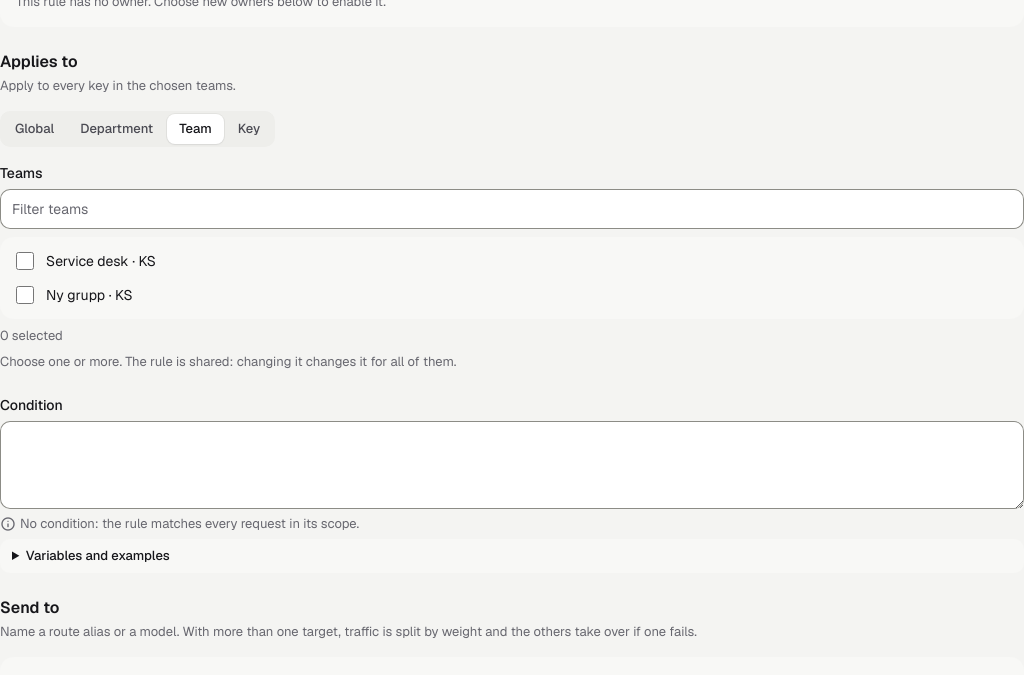
RuleFormDrawer › cannot enable a rule that has no owner until a new owner is chosen
(page scrolled)
Submit the form
Click the checkbox labelled "Ny grupp · KS": (25, 295) [16, 286, 34, 304]
(page scrolled)
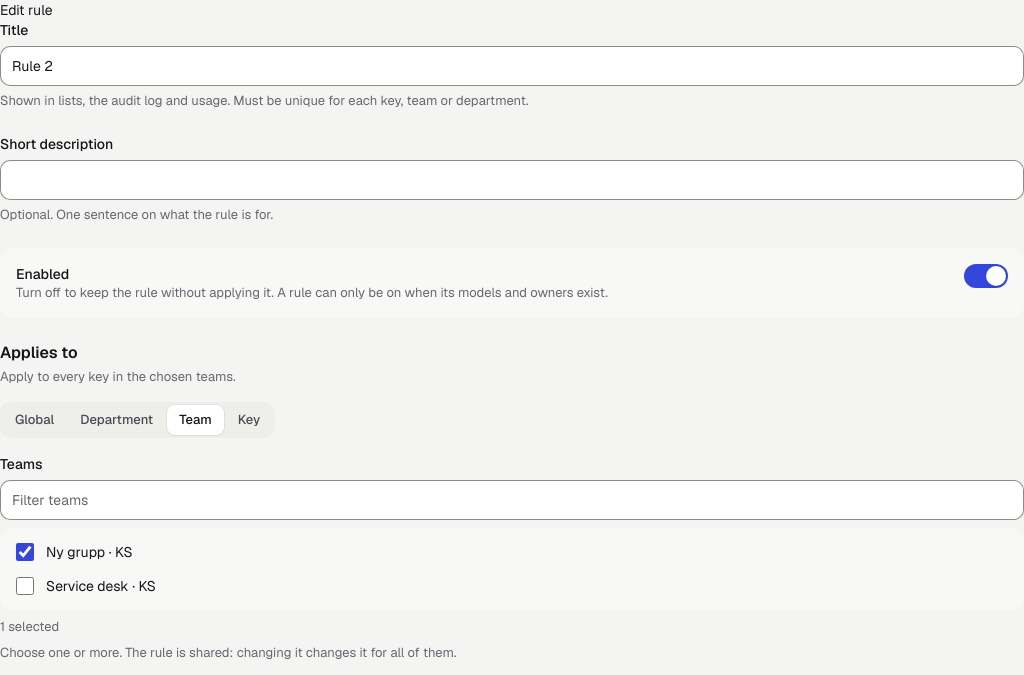
Expected: the switch is enabled, [964, 264, 1008, 288]
